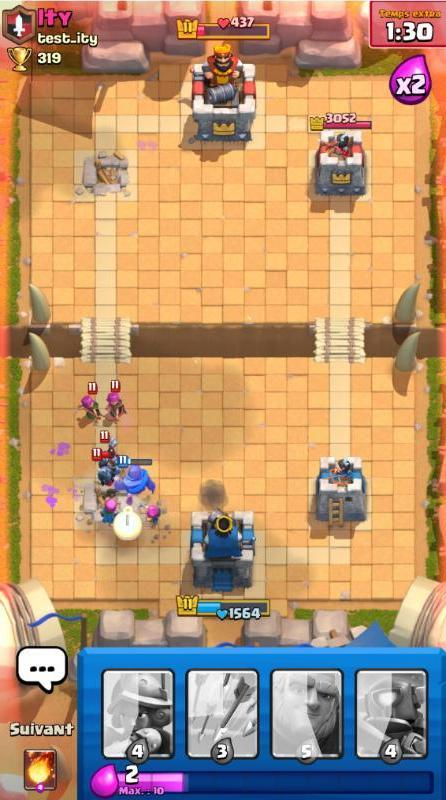enemy_archers: (74, 385, 104, 422), (102, 381, 129, 419)
enemy_minions: (92, 448, 122, 486)
player_archers: (98, 488, 126, 522)
player_knight: (112, 458, 158, 499)
